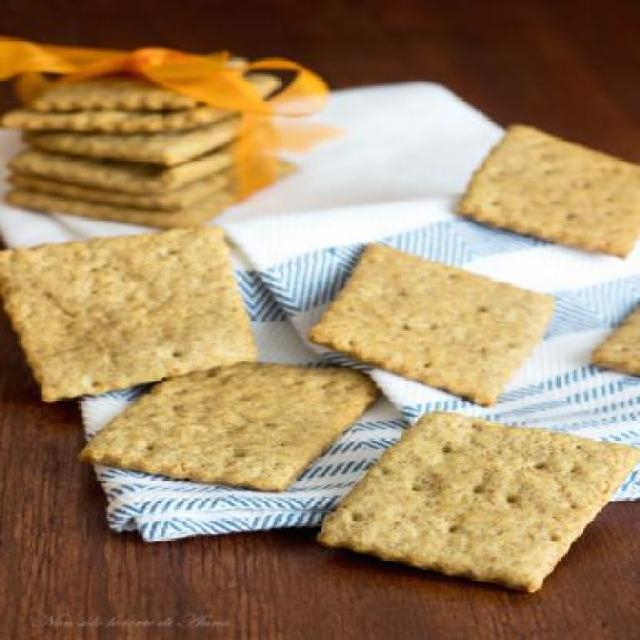Cracker packaged: (306, 406, 640, 592), (310, 240, 572, 402), (5, 234, 270, 386)
